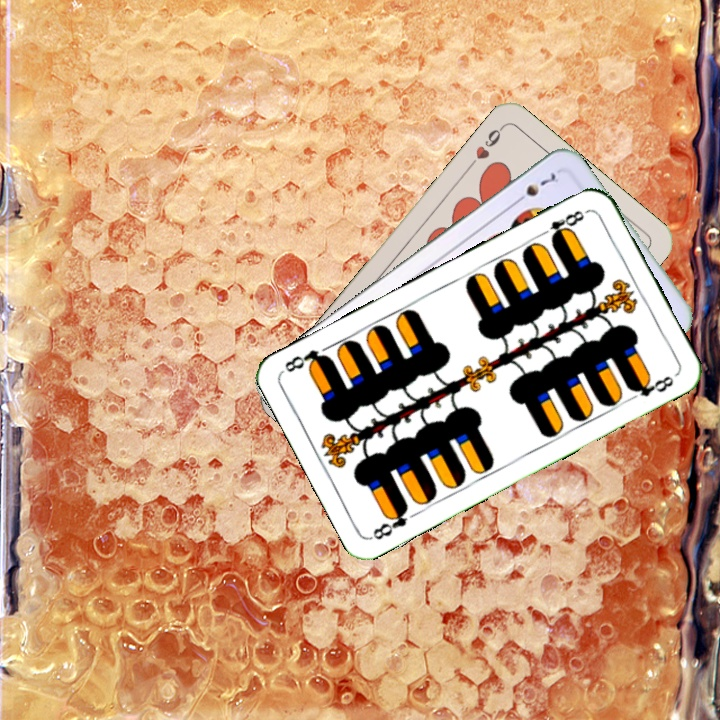E8: (535, 206, 587, 244), (367, 501, 411, 543)
H9: (464, 122, 507, 171)
S7: (510, 169, 561, 207)
